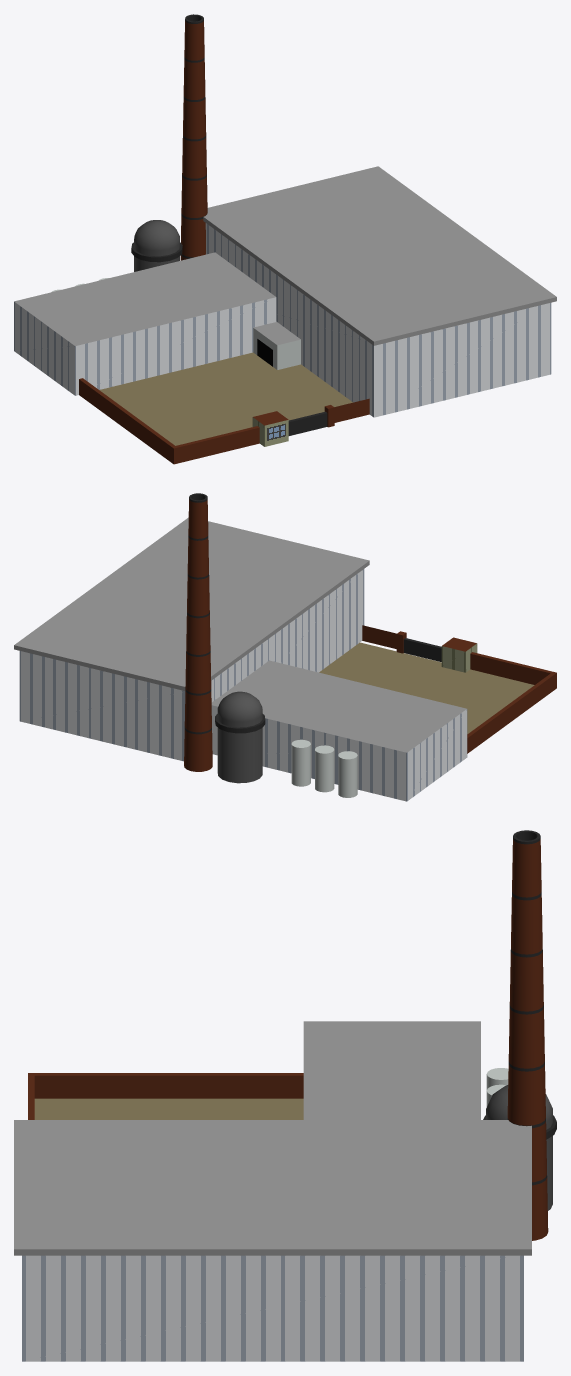
Rendered from SilverRefinery.fbx.
3 renders of one model, top to bottom at view 1: azimuth 30°, elevation 25°; view 2: azimuth 150°, elevation 25°; view 3: azimuth 270°, elevation 25°, orthographic. The views are drawn at different scales.
Visible parts, largest first — view 1: SilverRefinery; view 2: SilverRefinery; view 3: SilverRefinery.
Boxes of the visible parts, x1,y1,x2,y2 form: SilverRefinery: (14,14,556,464); SilverRefinery: (14,493,556,801); SilverRefinery: (14,830,556,1361).
Bounding box in the file's own units: 1610 × 1100 × 1366.
